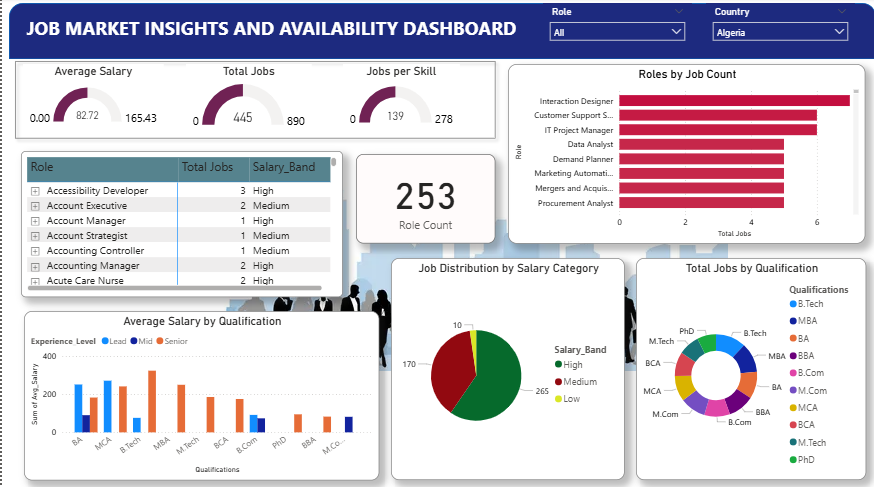

This screenshot's page, from the dashboard's own definition file:
{"tool":"powerbi","page":{"name":"Skills & Role","canvas":[1280,720],"ordinal":1},"visuals":[{"type":"shape","box":[0,73.5,741.2,151.5],"z":0},{"type":"gauge","fields":{"Y":["jobs_Cleaned.Total Jobs"]},"box":[269.1,97.1,183.8,104.4],"z":1000},{"type":"gauge","fields":{"Y":["jobs_Cleaned.Average Salary"]},"box":[30.9,97.1,205.9,104.4],"z":2000},{"type":"gauge","fields":{"Y":["jobs_Cleaned.Jobs per Skill"]},"box":[498.5,97.1,170.6,104.4],"z":3000},{"type":"shape","box":[10.3,7.4,1269.1,82.4],"z":4000},{"type":"slicer","fields":{"Values":["jobs_Cleaned.Role"]},"box":[792,8,218,76],"z":5000},{"type":"slicer","fields":{"Values":["jobs_Cleaned.Country"]},"box":[1030,8,218,76],"z":6000},{"type":"clusteredColumnChart","title":"Average Salary by Qualification","fields":{"Category":["jobs_Cleaned.Qualifications"],"Series":["jobs_Cleaned.Experience_Level"],"Y":["Sum(jobs_Cleaned.Avg_Salary)"]},"box":[31.6,458.3,519.7,247.6],"z":7000},{"type":"pieChart","title":"Job Distribution by Salary Category","fields":{"Category":["jobs_Cleaned.Salary_Band"],"Y":["jobs_Cleaned.Total Jobs"]},"box":[568.9,381,342.4,324.8],"z":8000},{"type":"clusteredBarChart","title":"Roles by Job Count ","fields":{"Category":["jobs_Cleaned.Role"],"Y":["jobs_Cleaned.Total Jobs"]},"box":[741,96.6,523.2,263.4],"z":9000},{"type":"textbox","box":[30.7,20.5,761,55.6],"z":10000},{"type":"pivotTable","fields":{"Rows":["jobs_Cleaned.Role Hierarchy.Role","jobs_Cleaned.Role Hierarchy.Job Title","jobs_Cleaned.Role Hierarchy.skills"],"Values":["jobs_Cleaned.Total Jobs","Min(jobs_Cleaned.Salary_Band)"]},"box":[27.1,224.3,471.4,214.3],"z":11000},{"type":"card","fields":{"Values":["jobs_Cleaned.Role Count"]},"box":[518.4,228.8,203.8,130.5],"z":12000},{"type":"donutChart","title":"Total Jobs by Qualification","fields":{"Y":["jobs_Cleaned.Total Jobs"],"Category":["jobs_Cleaned.Qualifications"]},"box":[927.1,381,337.1,324.8],"z":13000}]}

Visuals, with their boxes in screenshot pixels (x1, y1, x2, y2), scaled from the page's 1280x720 canvas onto the 874x487 screenshot:
shape: pyautogui.locateOnScreen(0, 50, 506, 152)
gauge - jobs_Cleaned.Total Jobs: pyautogui.locateOnScreen(184, 66, 309, 136)
gauge - jobs_Cleaned.Average Salary: pyautogui.locateOnScreen(21, 66, 162, 136)
gauge - jobs_Cleaned.Jobs per Skill: pyautogui.locateOnScreen(340, 66, 457, 136)
shape: pyautogui.locateOnScreen(7, 5, 873, 61)
slicer - jobs_Cleaned.Role: pyautogui.locateOnScreen(541, 5, 690, 57)
slicer - jobs_Cleaned.Country: pyautogui.locateOnScreen(703, 5, 852, 57)
"Average Salary by Qualification" clusteredColumnChart: pyautogui.locateOnScreen(22, 310, 376, 477)
"Job Distribution by Salary Category" pieChart: pyautogui.locateOnScreen(388, 258, 622, 477)
"Roles by Job Count " clusteredBarChart: pyautogui.locateOnScreen(506, 65, 863, 244)
textbox: pyautogui.locateOnScreen(21, 14, 541, 51)
pivotTable - jobs_Cleaned.Role Hierarchy.Role x jobs_Cleaned.Role Hierarchy.Job Title: pyautogui.locateOnScreen(19, 152, 340, 297)
card - jobs_Cleaned.Role Count: pyautogui.locateOnScreen(354, 155, 493, 243)
"Total Jobs by Qualification" donutChart: pyautogui.locateOnScreen(633, 258, 863, 477)
